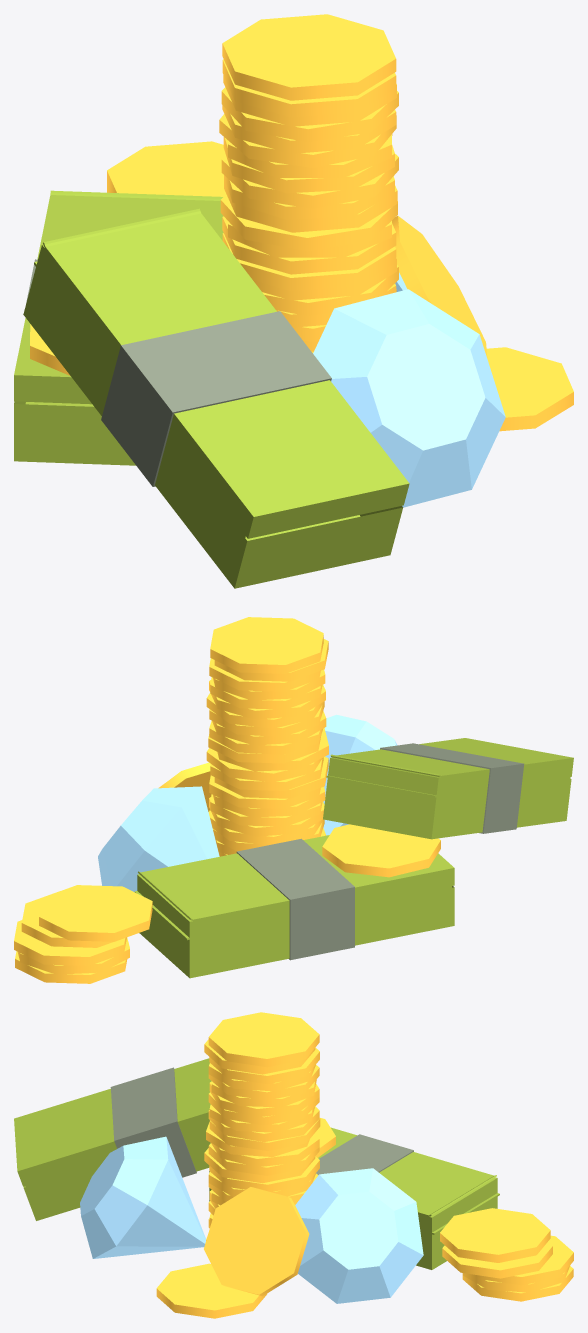
The model's file is richesse-4.glb.
3 renders of one model, top to bottom at view 1: azimuth 30°, elevation 25°; view 2: azimuth 150°, elevation 25°; view 3: azimuth 270°, elevation 25°, orthographic. The views are drawn at different scales.
Visible parts, largest first — view 1: Cylinder.001; view 2: Cylinder.001; view 3: Cylinder.001.
Boxes of the visible parts, x1,y1,x2,y2 form: Cylinder.001: (14,14,573,588); Cylinder.001: (14,617,573,983); Cylinder.001: (14,1012,573,1318).
Size of what is drawn, in the model's own units: 6.5 by 4.41 by 10.09.
